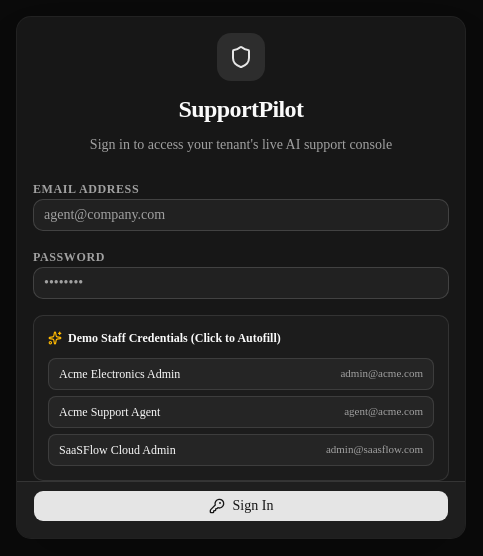
Scenario: LoginCard Component › clicking demo button autofills email and password
Click the text "Acme Electronics Admin": {"x": 120, "y": 374} [59,366,180,382]
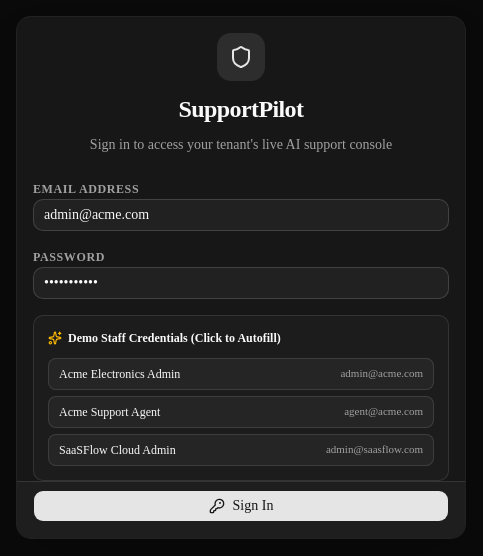
Now the field with placeholder "agent@company.com" holds "admin@acme.com", box [33,198,449,230]
Now the password field with placeholder "••••••••" holds "password123", box [33,266,449,298]
